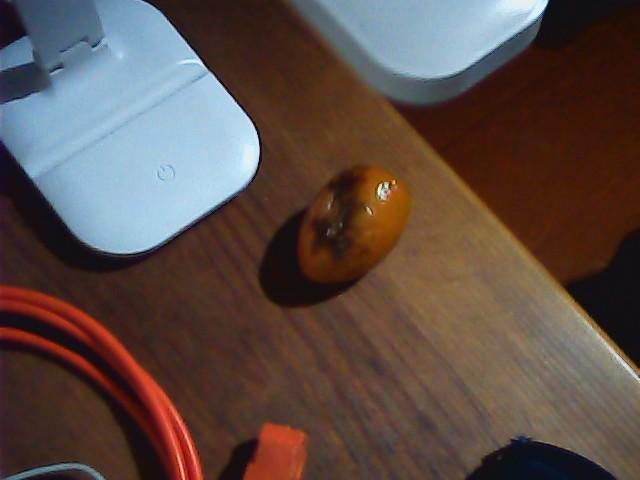defectuoso: (291, 162, 408, 289)
